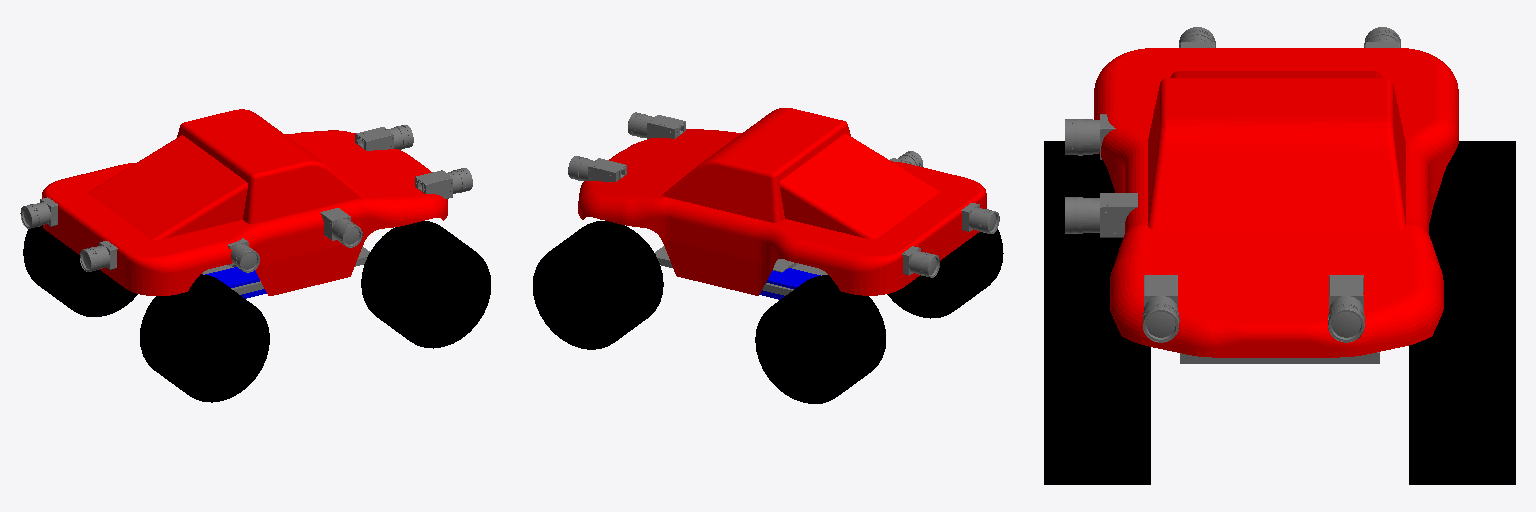
--- Facts derived from the render (not from the file) ---
Views: 3 orthographic renders of the robot side by side, from view 1: azimuth 30°, elevation 25°; view 2: azimuth 150°, elevation 25°; view 3: azimuth 270°, elevation 25°.
Robot: em_3905 — 26 links, 25 joints (2 revolute, 4 continuous, 4 prismatic, 15 fixed); root link base_link; default pose: every joint at zero.
Visible links, largest first — view 1: body, right_front_wheel, right_rear_wheel, left_rear_wheel, basler_basler_r, stereo_basler, stereo_basler2, stereo_basler3, basler3_basler_r, right_battery, basler2_basler_r; view 2: body, left_front_wheel, left_rear_wheel, right_rear_wheel, basler_basler_r, stereo_basler, stereo_basler3, basler3_basler_r, left_battery, chassis; view 3: body, left_front_wheel, right_front_wheel, left_rear_wheel, right_rear_wheel, stereo_basler2, stereo_basler, basler_basler_r, basler2_basler_r, chassis, stereo_basler3, basler3_basler_r.
Boxes of the visible links, box(x1,y1,x2,y2) form: body: box(42, 109, 447, 295); right_front_wheel: box(361, 221, 490, 348); right_rear_wheel: box(140, 274, 269, 402); left_rear_wheel: box(23, 225, 137, 316); basler_basler_r: box(415, 168, 472, 198); stereo_basler: box(355, 125, 413, 150); stereo_basler2: box(320, 208, 362, 247); stereo_basler3: box(80, 241, 117, 271); basler3_basler_r: box(20, 197, 57, 228); right_battery: box(205, 267, 266, 298); basler2_basler_r: box(228, 238, 259, 272); body: box(578, 108, 986, 295); left_front_wheel: box(533, 221, 663, 349); left_rear_wheel: box(755, 275, 885, 403); right_rear_wheel: box(887, 229, 1003, 318); basler_basler_r: box(628, 112, 685, 138); stereo_basler: box(568, 156, 626, 181); stereo_basler3: box(961, 203, 999, 233); basler3_basler_r: box(902, 246, 939, 277); left_battery: box(759, 268, 820, 299); chassis: box(655, 246, 827, 295); body: box(1094, 48, 1458, 357); left_front_wheel: box(1409, 311, 1515, 484); right_front_wheel: box(1044, 311, 1150, 484); left_rear_wheel: box(1429, 141, 1515, 310); right_rear_wheel: box(1044, 141, 1122, 310); stereo_basler2: box(1065, 193, 1137, 237); stereo_basler: box(1328, 275, 1364, 342); basler_basler_r: box(1143, 275, 1179, 342); basler2_basler_r: box(1065, 114, 1115, 159); chassis: box(1180, 352, 1379, 363); stereo_basler3: box(1179, 27, 1215, 47); basler3_basler_r: box(1364, 27, 1400, 47).
Size in the robot's own frame: 0.56 by 0.3939 by 0.2619 metres.
7 mesh visuals loaded from 2 distinct referenced files (2 binary STL).

robot.urdf — em_3905:
<?xml version="1.0" ?>
<!-- =================================================================================== -->
<!-- |    This document was autogenerated by xacro from em_3905.urdf.xacro             | -->
<!-- |    EDITING THIS FILE BY HAND IS NOT RECOMMENDED                                 | -->
<!-- =================================================================================== -->
<!-- em_3905.urdf.xacro

This file defines a model of a Traxxas(R) E-Maxx(R) #3905 RC (Radio Controlled)
truck.

Lengths are measured in meters, angles are measured in radians, and masses are
measured in kilograms. All of these values are approximations.

To work with Gazebo, each link must have an inertial element, even if
the link only serves to connect two joints. To be visible in Gazebo, a link
must have a collision element. Furthermore, the link must have a Gazebo
material.

Traxxas(R), E-Maxx(R), and Titan(R) are registered trademarks of Traxxas
Management, LLC. em_3905.urdf.xacro was independently created by Wunderkammer
Laboratory, and neither em_3905.urdf.xacro nor Wunderkammer Laboratory is
affiliated with, sponsored by, approved by, or endorsed by Traxxas Management,
LLC. Mabuchi Motor(R) is a registered trademark of Mabuchi Motor Co., Ltd.
Corporation Japan. All other trademarks and service marks are the property of
their respective owners.

Copyright (c) 2011-2013 Wunderkammer Laboratory

Licensed under the Apache License, Version 2.0 (the "License");
you may not use this file except in compliance with the License.
You may obtain a copy of the License at

  http://www.apache.org/licenses/LICENSE-2.0

Unless required by applicable law or agreed to in writing, software
distributed under the License is distributed on an "AS IS" BASIS,
WITHOUT WARRANTIES OR CONDITIONS OF ANY KIND, either express or implied.
See the License for the specific language governing permissions and
limitations under the License.
-->
<robot name="em_3905" xmlns:xacro="http://ros.org/wiki/xacro">
  <!-- include files -->
  <!-- Degree-to-radian conversions -->
  <!-- User define Stereo_Cam1 -->
  <!-- stereo_camera_model&param_macro -->
  <!-- Create stereo_basler model -->
  <link name="stereo_basler">
    <visual>
      <origin rpy="1.570795 0 3.14159" xyz="0 -0.015 -0.015"/>
      <geometry>
        <mesh filename="package://ackermann_vehicle_description/urdf/meshes/basler.stl"/>
      </geometry>
      <material name="chassis_mat"/>
    </visual>
  </link>
  <joint name="basler_basler_l_to_basler_r" type="fixed">
    <parent link="stereo_basler"/>
    <child link="basler_basler_r"/>
  </joint>
  <link name="basler_basler_r">
    <visual>
      <origin rpy="1.570795 0 3.14159" xyz="0 -0.17 -0.015"/>
      <geometry>
        <mesh filename="package://ackermann_vehicle_description/urdf/meshes/basler.stl"/>
      </geometry>
      <material name="chassis_mat"/>
    </visual>
  </link>
  <!--optical position parameter-->
  <joint name="basler_optical_joint" type="fixed">
    <origin rpy="0 0 0" xyz="0 0 0"/>
    <parent link="stereo_basler"/>
    <child link="basler_frame_optical"/>
  </joint>
  <link name="basler_frame_optical"/>
  <!--camera sensor parameter-->
  <gazebo reference="basler_frame_optical">
    <sensor name="stereo_camera" type="multicamera">
      <update_rate>30.0</update_rate>
      <camera name="left">
        <pose>0 0 0 0 0 0</pose>
        <!--pose>0 0.155 0 0 0 0</pose-->
        <horizontal_fov>1.57079633</horizontal_fov>
        <image>
          <width>640</width>
          <height>480</height>
          <format>R8G8B8</format>
        </image>
        <clip>
          <near>0.02</near>
          <far>300</far>
        </clip>
        <noise>
          <type>gaussian</type>
          <mean>0.0</mean>
          <stddev>0.007</stddev>
        </noise>
      </camera>
      <camera name="right">
        <pose>0 -0.155 0 0 0 0</pose>
        <!--pose>0 0.548 0 3.14 0 0</pose-->
        <horizontal_fov>1.57079633</horizontal_fov>
        <image>
          <width>640</width>
          <height>480</height>
          <format>R8G8B8</format>
        </image>
        <clip>
          <near>0.02</near>
          <far>300</far>
        </clip>
        <noise>
          <type>gaussian</type>
          <mean>0.0</mean>
          <stddev>0.007</stddev>
        </noise>
      </camera>
      <plugin filename="libgazebo_ros_multicamera.so" name="stereo_camera_controller">
        <alwaysOn>true</alwaysOn>
        <updateRate>0.0</updateRate>
        <!--cameraName>multisense_sl/camera</cameraName-->
        <cameraName>multi/camera</cameraName>
        <imageTopicName>image_raw</imageTopicName>
        <cameraInfoTopicName>camera_info</cameraInfoTopicName>
        <frameName>basler_frame_optical</frameName>
        <!--<rightFrameName>${prefix}_frame_optical</rightFrameName>-->
        <foclLength>320.000101</foclLength>
        <hackBaseline>0.155</hackBaseline>
        <distortionK1>0</distortionK1>
        <distortionK2>0</distortionK2>
        <distortionK3>0</distortionK3>
        <distortionT1>0</distortionT1>
        <distortionT2>0</distortionT2>
      </plugin>
    </sensor>
  </gazebo>
  <!-- stereo_camera1_frame_joint -->
  <joint name="stereo_camera_frame_joint" type="fixed">
    <origin rpy="0 0 0" xyz="0.26 0.055 0.085"/>
    <parent link="base_link"/>
    <child link="stereo_basler"/>
  </joint>
  <!-- Create stereo_basler model -->
  <link name="stereo_basler2">
    <visual>
      <origin rpy="1.570795 0 3.14159" xyz="0 -0.015 -0.015"/>
      <geometry>
        <mesh filename="package://ackermann_vehicle_description/urdf/meshes/basler.stl"/>
      </geometry>
      <material name="chassis_mat"/>
    </visual>
  </link>
  <joint name="basler2_basler_l_to_basler_r" type="fixed">
    <parent link="stereo_basler2"/>
    <child link="basler2_basler_r"/>
  </joint>
  <link name="basler2_basler_r">
    <visual>
      <origin rpy="1.570795 0 3.14159" xyz="0 -0.17 -0.015"/>
      <geometry>
        <mesh filename="package://ackermann_vehicle_description/urdf/meshes/basler.stl"/>
      </geometry>
      <material name="chassis_mat"/>
    </visual>
  </link>
  <!--optical position parameter-->
  <joint name="basler2_optical_joint" type="fixed">
    <origin rpy="0 0 0" xyz="0 0 0"/>
    <parent link="stereo_basler2"/>
    <child link="basler2_frame_optical"/>
  </joint>
  <link name="basler2_frame_optical"/>
  <!--camera sensor parameter-->
  <gazebo reference="basler2_frame_optical">
    <sensor name="stereo_camera" type="multicamera">
      <update_rate>30.0</update_rate>
      <camera name="left">
        <pose>0 0 0 0 0 0</pose>
        <!--pose>0 0.155 0 0 0 0</pose-->
        <horizontal_fov>1.57079633</horizontal_fov>
        <image>
          <width>640</width>
          <height>480</height>
          <format>R8G8B8</format>
        </image>
        <clip>
          <near>0.02</near>
          <far>300</far>
        </clip>
        <noise>
          <type>gaussian</type>
          <mean>0.0</mean>
          <stddev>0.007</stddev>
        </noise>
      </camera>
      <camera name="right">
        <pose>0 -0.155 0 0 0 0</pose>
        <!--pose>0 0.548 0 3.14 0 0</pose-->
        <horizontal_fov>1.57079633</horizontal_fov>
        <image>
          <width>640</width>
          <height>480</height>
          <format>R8G8B8</format>
        </image>
        <clip>
          <near>0.02</near>
          <far>300</far>
        </clip>
        <noise>
          <type>gaussian</type>
          <mean>0.0</mean>
          <stddev>0.007</stddev>
        </noise>
      </camera>
      <plugin filename="libgazebo_ros_multicamera.so" name="stereo_camera_controller">
        <alwaysOn>true</alwaysOn>
        <updateRate>0.0</updateRate>
        <!--cameraName>multisense_sl/camera</cameraName-->
        <cameraName>multi/camera</cameraName>
        <imageTopicName>image_raw</imageTopicName>
        <cameraInfoTopicName>camera_info</cameraInfoTopicName>
        <frameName>basler2_frame_optical</frameName>
        <!--<rightFrameName>${prefix}_frame_optical</rightFrameName>-->
        <foclLength>320.000101</foclLength>
        <hackBaseline>0.155</hackBaseline>
        <distortionK1>0</distortionK1>
        <distortionK2>0</distortionK2>
        <distortionK3>0</distortionK3>
        <distortionT1>0</distortionT1>
        <distortionT2>0</distortionT2>
      </plugin>
    </sensor>
  </gazebo>
  <joint name="stereo_camera2_frame_joint" type="fixed">
    <origin rpy="0 0 4.71238633" xyz="0.04 -0.18 0.085"/>
    <parent link="base_link"/>
    <child link="stereo_basler2"/>
  </joint>
  <!-- Create stereo_basler model -->
  <link name="stereo_basler3">
    <visual>
      <origin rpy="1.570795 0 3.14159" xyz="0 -0.015 -0.015"/>
      <geometry>
        <mesh filename="package://ackermann_vehicle_description/urdf/meshes/basler.stl"/>
      </geometry>
      <material name="chassis_mat"/>
    </visual>
  </link>
  <joint name="basler3_basler_l_to_basler_r" type="fixed">
    <parent link="stereo_basler3"/>
    <child link="basler3_basler_r"/>
  </joint>
  <link name="basler3_basler_r">
    <visual>
      <origin rpy="1.570795 0 3.14159" xyz="0 -0.17 -0.015"/>
      <geometry>
        <mesh filename="package://ackermann_vehicle_description/urdf/meshes/basler.stl"/>
      </geometry>
      <material name="chassis_mat"/>
    </visual>
  </link>
  <!--optical position parameter-->
  <joint name="basler3_optical_joint" type="fixed">
    <origin rpy="0 0 0" xyz="0 0 0"/>
    <parent link="stereo_basler3"/>
    <child link="basler3_frame_optical"/>
  </joint>
  <link name="basler3_frame_optical"/>
  <!--camera sensor parameter-->
  <gazebo reference="basler3_frame_optical">
    <sensor name="stereo_camera" type="multicamera">
      <update_rate>30.0</update_rate>
      <camera name="left">
        <pose>0 0 0 0 0 0</pose>
        <!--pose>0 0.155 0 0 0 0</pose-->
        <horizontal_fov>1.57079633</horizontal_fov>
        <image>
          <width>640</width>
          <height>480</height>
          <format>R8G8B8</format>
        </image>
        <clip>
          <near>0.02</near>
          <far>300</far>
        </clip>
        <noise>
          <type>gaussian</type>
          <mean>0.0</mean>
          <stddev>0.007</stddev>
        </noise>
      </camera>
      <camera name="right">
        <pose>0 -0.155 0 0 0 0</pose>
        <!--pose>0 0.548 0 3.14 0 0</pose-->
        <horizontal_fov>1.57079633</horizontal_fov>
        <image>
          <width>640</width>
          <height>480</height>
          <format>R8G8B8</format>
        </image>
        <clip>
          <near>0.02</near>
          <far>300</far>
        </clip>
        <noise>
          <type>gaussian</type>
          <mean>0.0</mean>
          <stddev>0.007</stddev>
        </noise>
      </camera>
      <plugin filename="libgazebo_ros_multicamera.so" name="stereo_camera_controller">
        <alwaysOn>true</alwaysOn>
        <updateRate>0.0</updateRate>
        <!--cameraName>multisense_sl/camera</cameraName-->
        <cameraName>multi/camera</cameraName>
        <imageTopicName>image_raw</imageTopicName>
        <cameraInfoTopicName>camera_info</cameraInfoTopicName>
        <frameName>basler3_frame_optical</frameName>
        <!--<rightFrameName>${prefix}_frame_optical</rightFrameName>-->
        <foclLength>320.000101</foclLength>
        <hackBaseline>0.155</hackBaseline>
        <distortionK1>0</distortionK1>
        <distortionK2>0</distortionK2>
        <distortionK3>0</distortionK3>
        <distortionT1>0</distortionT1>
        <distortionT2>0</distortionT2>
      </plugin>
    </sensor>
  </gazebo>
  <joint name="stereo_camera3_frame_joint" type="fixed">
    <origin rpy="0 0 3.14159" xyz="-0.3 -0.0685 0.085"/>
    <parent link="base_link"/>
    <child link="stereo_basler3"/>
  </joint>
  <!-- chassis_length is measured along the x axis, chassis_width
       along the y axis, and chassis_height along the z axis. -->
  <!-- battery_dist is the distance between the inner edges of the
       batteries. battery_comp_depth is the battery compartment depth.
       battery_length is measured along the x axis, battery_width
       along the y axis, and battery_height along the z axis. 

  <xacro:property name="battery_comp_angle" value="0.34906585"/>

-->
  <!-- hub_dia and tire_dia are the diameters of the hub and tire,
       respectively. hex_hub_depth is the distance that the hex hub is
       inset from the outer edge of the tire. It is set so that each wheel
       is a "zero offset" wheel. hex_hub_depth = tire_width / 2 -
       axle_length. -->
  <!-- hex_hub_dist is the distance between left and right hex hubs when
       the shock absorbers are fully extended. axle_length is the distance
       from a U joint to the corresponding hex hub. wheel_travel is the
       vertical wheel travel. -->
  <!-- shock_eff_limit is 2 * ((shock_stroke / 2) * shock_spring_constant) N.
       shock_stroke is 0.028575 meters. shock_spring_constant, an approximation
       of a Traxxas Ultra Shock shock absorber spring's constant, is
       437.817 N/m. -->
  <!-- The specifications for a Titan(R) 550 motor could not be found, so the
       stall torque of a Mabuchi Motor(R) RS-550VC-7525 motor was used instead.

       num_spur_gear_teeth = 68
       num_pinion_gear_teeth = 19
       final_gear_ratio = (num_spur_gear_teeth / num_pinion_gear_teeth) *
         5.22 = 18.68
       stall_torque = 0.549 N m
       axle_eff_limit = ((2 * stall_torque) * final_gear_ratio) / 4 =
         5.12766 N m

       max_speed = 40 mph (30+ mph) = 17.8816 m/s
       axle_vel_limit = (2 * pi) * (max_speed / (pi * tire_dia)) =
         244.8696 rad/s -->
  <!-- These constants are used to simulate a Traxxas 2056 servo operated at
       6 V. servo_stall_torque is measured in N m. servo_no_load_speed is
       measured in rad/s. -->
  <!-- ctrl_period is gazebo_ros_control's control period. Unit: hertz. -->
  <material name="battery_mat">
    <color rgba="0 0 1 1"/>
  </material>
  <material name="chassis_mat">
    <color rgba="0.5 0.5 0.5 1"/>
  </material>
  <material name="body_mat">
    <color rgba="1 0 0 1"/>
  </material>
  <material name="tire_mat">
    <color rgba="0 0 0 1"/>
  </material>
  <!-- Null inertial element. This is needed to make the model work with
       Gazebo. -->
  <!-- Inertia of a solid cuboid. Width is measured along the x axis, depth
       along the y axis, and height along the z axis. -->
  <!-- Inertia of a thick-walled cylindrical tube with open ends. Height is
       measured along the z axis, which is the tube's axis. inner_rad and
       outer_rad are the tube's inner and outer radii, respectively. -->
  <!-- Battery -->
  <!-- Shock absorber -->
  <!-- The "wheel" macro defines an axle carrier, axle, and wheel. -->
  <!-- Front wheel -->
  <!-- Rear wheel -->
  <!-- base_link must have geometry so that its axes can be displayed in
       rviz. 
          <mesh><uri>model://meshes/body.stl</uri>
          <scale>1.8 1.8 1.8</scale>

-->
  <link name="base_link">
    <visual>
      <geometry>
        <box size="0.1 0.1 0.01"/>
      </geometry>
      <material name="chassis_mat"/>
    </visual>
  </link>
  <gazebo reference="base_link">
    <material>Gazebo/Grey</material>
  </gazebo>
  <!-- Chassis -->
  <link name="chassis">
    <visual>
      <origin xyz="0 0 -0.005"/>
      <geometry>
        <box size="0.258 0.168 0.01"/>
      </geometry>
      <material name="chassis_mat"/>
    </visual>
    <collision>
      <origin xyz="0 0 -0.005"/>
      <geometry>
        <box size="0.258 0.168 0.01"/>
      </geometry>
    </collision>
    <inertial>
      <origin xyz="0 0 -0.005"/>
      <mass value="2.788"/>
      <inertia ixx="0.00658060933333" ixy="0" ixz="0" iyy="0.0154882693333" iyz="0" izz="0.022022412"/>
    </inertial>
  </link>
  <gazebo reference="chassis">
    <material>Gazebo/Grey</material>
  </gazebo>
  <joint name="base_link_to_chasis" type="fixed">
    <parent link="base_link"/>
    <child link="chassis"/>
  </joint>
  <!-- body -->
  <link name="body">
    <visual>
      <origin rpy="1.57 0 -1.57" xyz="0.25 0.15 0.0"/>
      <geometry>
        <mesh filename="package://ackermann_vehicle_description/urdf/meshes/body.stl"/>
      </geometry>
      <material name="body_mat"/>
    </visual>
  </link>
  <gazebo reference="body">
    <material>Gazebo/Red</material>
  </gazebo>
  <joint name="chasis_link_to_body" type="fixed">
    <parent link="chassis"/>
    <child link="body"/>
  </joint>
  <!-- Batteries -->
  <joint name="chassis_to_left_battery" type="fixed">
    <parent link="chassis"/>
    <child link="left_battery_offset"/>
    <origin rpy="0.0 0 0" xyz="-0.025                    0.0325                    0"/>
  </joint>
  <link name="left_battery_offset">
    <inertial>
      <mass value="0.001"/>
      <inertia ixx="0.001" ixy="0" ixz="0" iyy="0.001" iyz="0" izz="0.001"/>
    </inertial>
  </link>
  <joint name="offset_to_left_battery" type="fixed">
    <parent link="left_battery_offset"/>
    <child link="left_battery"/>
    <origin xyz="0                    0.0235                    -0.008"/>
  </joint>
  <link name="left_battery">
    <visual>
      <geometry>
        <box size="0.16 0.047 0.024"/>
      </geometry>
      <material name="battery_mat"/>
    </visual>
    <collision>
      <geometry>
        <box size="0.16 0.047 0.024"/>
      </geometry>
    </collision>
    <inertial>
      <origin/>
      <mass value="0.5025"/>
      <inertia ixx="0.000116621875" ixy="0" ixz="0" iyy="0.00109612" iyz="0" izz="0.001164501875"/>
    </inertial>
  </link>
  <gazebo reference="left_battery">
    <material>Gazebo/Yellow</material>
  </gazebo>
  <!--   <gazebo reference="${prefix}_battery">
      <material>Gazebo/Blue</material>
    </gazebo>-->
  <joint name="chassis_to_right_battery" type="fixed">
    <parent link="chassis"/>
    <child link="right_battery_offset"/>
    <origin rpy="-0.0 0 0" xyz="-0.025                    -0.0325                    0"/>
  </joint>
  <link name="right_battery_offset">
    <inertial>
      <mass value="0.001"/>
      <inertia ixx="0.001" ixy="0" ixz="0" iyy="0.001" iyz="0" izz="0.001"/>
    </inertial>
  </link>
  <joint name="offset_to_right_battery" type="fixed">
    <parent link="right_battery_offset"/>
    <child link="right_battery"/>
    <origin xyz="0                    -0.0235                    -0.008"/>
  </joint>
  <link name="right_battery">
    <visual>
      <geometry>
        <box size="0.16 0.047 0.024"/>
      </geometry>
      <material name="battery_mat"/>
    </visual>
    <collision>
      <geometry>
        <box size="0.16 0.047 0.024"/>
      </geometry>
    </collision>
    <inertial>
      <origin/>
      <mass value="0.5025"/>
      <inertia ixx="0.000116621875" ixy="0" ixz="0" iyy="0.00109612" iyz="0" izz="0.001164501875"/>
    </inertial>
  </link>
  <gazebo reference="right_battery">
    <material>Gazebo/Yellow</material>
  </gazebo>
  <!--   <gazebo reference="${prefix}_battery">
      <material>Gazebo/Blue</material>
    </gazebo>-->
  <!-- Wheels -->
  <joint name="left_front_shock" type="prismatic">
    <parent link="chassis"/>
    <child link="left_steering_link"/>
    <origin xyz="0.1675                    0.1525                    -0.0235"/>
    <axis xyz="0 0 -1"/>
    <limit effort="12.5106" lower="-0.042" upper="0.042" velocity="1000"/>
  </joint>
  <transmission name="left_front_shock_trans">
    <type>transmission_interface/SimpleTransmission</type>
    <actuator name="left_front_shock_act">
      <mechanicalReduction>1</mechanicalReduction>
    </actuator>
    <joint name="left_front_shock">
      <hardwareInterface>EffortJointInterface</hardwareInterface>
    </joint>
  </transmission>
  <link name="left_steering_link">
    <inertial>
      <mass value="0.001"/>
      <inertia ixx="0.001" ixy="0" ixz="0" iyy="0.001" iyz="0" izz="0.001"/>
    </inertial>
  </link>
  <joint name="left_steering_joint" type="revolute">
    <parent link="left_steering_link"/>
    <child link="left_front_axle_carrier"/>
    <axis xyz="0 0 1"/>
    <limit effort="0.5649" lower="-0.785398163" upper="0.785398163" velocity="4.553"/>
  </joint>
  <transmission name="left_steering_trans">
    <type>transmission_interface/SimpleTransmission</type>
    <actuator name="left_steering_act">
      <mechanicalReduction>1</mechanicalReduction>
    </actuator>
    <joint name="left_steering_joint">
      <hardwareInterface>EffortJointInterface</hardwareInterface>
    </joint>
  </transmission>
  <link name="left_front_axle_carrier">
    <inertial>
      <mass value="0.001"/>
      <inertia ixx="0.001" ixy="0" ixz="0" iyy="0.001" iyz="0" izz="0.001"/>
    </inertial>
  </link>
  <!-- The left and right axles have the same axis so that identical
         rotation values cause the wheels to rotate in the same direction. -->
  <joint name="left_front_axle" type="continuous">
    <parent link="left_front_axle_carrier"/>
    <child link="left_front_wheel"/>
    <origin rpy="1.57079633 0 0"/>
    <axis xyz="0 0 -1"/>
    <limit effort="5.12766" velocity="244.8696"/>
  </joint>
  <transmission name="left_front_axle_trans">
    <type>transmission_interface/SimpleTransmission</type>
    <actuator name="left_front_axle_act">
      <mechanicalReduction>1</mechanicalReduction>
    </actuator>
    <joint name="left_front_axle">
      <hardwareInterface>EffortJointInterface</hardwareInterface>
    </joint>
  </transmission>
  <link name="left_front_wheel">
    <visual>
      <origin xyz="0                      -6.93889390391e-18                      0"/>
      <geometry>
        <cylinder length="0.0889" radius="0.073025"/>
      </geometry>
      <material name="tire_mat"/>
    </visual>
    <collision>
      <origin xyz="0                      -6.93889390391e-18                      0"/>
      <geometry>
        <cylinder length="0.0889" radius="0.073025"/>
      </geometry>
    </collision>
    <inertial>
      <mass value="0.29"/>
      <inertia ixx="0.000746465912979" ixy="0" ixz="0" iyy="0.000746465912979" iyz="0" izz="0.00111094334263"/>
    </inertial>
  </link>
  <gazebo reference="left_front_wheel">
    <material>Gazebo/Black</material>
  </gazebo>
  <joint name="right_front_shock" type="prismatic">
    <parent link="chassis"/>
    <child link="right_steering_link"/>
    <origin xyz="0.1675                    -0.1525                    -0.0235"/>
    <axis xyz="0 0 -1"/>
    <limit effort="12.5106" lower="-0.042" upper="0.042" velocity="1000"/>
  </joint>
  <transmission name="right_front_shock_trans">
    <type>transmission_interface/SimpleTransmission</type>
    <actuator name="right_front_shock_act">
      <mechanicalReduction>1</mechanicalReduction>
    </actuator>
    <joint name="right_front_shock">
      <hardwareInterface>EffortJointInterface</hardwareInterface>
    </joint>
  </transmission>
  <link name="right_steering_link">
    <inertial>
      <mass value="0.001"/>
      <inertia ixx="0.001" ixy="0" ixz="0" iyy="0.001" iyz="0" izz="0.001"/>
    </inertial>
  </link>
  <joint name="right_steering_joint" type="revolute">
    <parent link="right_steering_link"/>
    <child link="right_front_axle_carrier"/>
    <axis xyz="0 0 1"/>
    <limit effort="0.5649" lower="-0.785398163" upper="0.785398163" velocity="4.553"/>
  </joint>
  <transmission name="right_steering_trans">
    <type>transmission_interface/SimpleTransmission</type>
    <actuator name="right_steering_act">
      <mechanicalReduction>1</mechanicalReduction>
    </actuator>
    <joint name="right_steering_joint">
      <hardwareInterface>EffortJointInterface</hardwareInterface>
    </joint>
  </transmission>
  <link name="right_front_axle_carrier">
    <inertial>
      <mass value="0.001"/>
      <inertia ixx="0.001" ixy="0" ixz="0" iyy="0.001" iyz="0" izz="0.001"/>
    </inertial>
  </link>
  <!-- The left and right axles have the same axis so that identical
         rotation values cause the wheels to rotate in the same direction. -->
  <joint name="right_front_axle" type="continuous">
    <parent link="right_front_axle_carrier"/>
    <child link="right_front_wheel"/>
    <origin rpy="1.57079633 0 0"/>
    <axis xyz="0 0 -1"/>
    <limit effort="5.12766" velocity="244.8696"/>
  </joint>
  <transmission name="right_front_axle_trans">
    <type>transmission_interface/SimpleTransmission</type>
    <actuator name="right_front_axle_act">
      <mechanicalReduction>1</mechanicalReduction>
    </actuator>
    <joint name="right_front_axle">
      <hardwareInterface>EffortJointInterface</hardwareInterface>
    </joint>
  </transmission>
  <link name="right_front_wheel">
    <visual>
      <origin xyz="0                      6.93889390391e-18                      0"/>
      <geometry>
        <cylinder length="0.0889" radius="0.073025"/>
      </geometry>
      <material name="tire_mat"/>
    </visual>
    <collision>
      <origin xyz="0                      6.93889390391e-18                      0"/>
      <geometry>
        <cylinder length="0.0889" radius="0.073025"/>
      </geometry>
    </collision>
    <inertial>
      <mass value="0.29"/>
      <inertia ixx="0.000746465912979" ixy="0" ixz="0" iyy="0.000746465912979" iyz="0" izz="0.00111094334263"/>
    </inertial>
  </link>
  <gazebo reference="right_front_wheel">
    <material>Gazebo/Black</material>
  </gazebo>
  <joint name="left_rear_shock" type="prismatic">
    <parent link="chassis"/>
    <child link="left_rear_axle_carrier"/>
    <origin xyz="-0.1675                    0.1525                    -0.0235"/>
    <axis xyz="0 0 -1"/>
    <limit effort="12.5106" lower="-0.042" upper="0.042" velocity="1000"/>
  </joint>
  <transmission name="left_rear_shock_trans">
    <type>transmission_interface/SimpleTransmission</type>
    <actuator name="left_rear_shock_act">
      <mechanicalReduction>1</mechanicalReduction>
    </actuator>
    <joint name="left_rear_shock">
      <hardwareInterface>EffortJointInterface</hardwareInterface>
    </joint>
  </transmission>
  <link name="left_rear_axle_carrier">
    <inertial>
      <mass value="0.001"/>
      <inertia ixx="0.001" ixy="0" ixz="0" iyy="0.001" iyz="0" izz="0.001"/>
    </inertial>
  </link>
  <!-- The left and right axles have the same axis so that identical
         rotation values cause the wheels to rotate in the same direction. -->
  <joint name="left_rear_axle" type="continuous">
    <parent link="left_rear_axle_carrier"/>
    <child link="left_rear_wheel"/>
    <origin rpy="1.57079633 0 0"/>
    <axis xyz="0 0 -1"/>
    <limit effort="5.12766" velocity="244.8696"/>
  </joint>
  <transmission name="left_rear_axle_trans">
    <type>transmission_interface/SimpleTransmission</type>
    <actuator name="left_rear_axle_act">
      <mechanicalReduction>1</mechanicalReduction>
    </actuator>
    <joint name="left_rear_axle">
      <hardwareInterface>EffortJointInterface</hardwareInterface>
    </joint>
  </transmission>
  <link name="left_rear_wheel">
    <visual>
      <origin xyz="0                      -6.93889390391e-18                      0"/>
      <geometry>
        <cylinder length="0.0889" radius="0.073025"/>
      </geometry>
      <material name="tire_mat"/>
    </visual>
    <collision>
      <origin xyz="0                      -6.93889390391e-18                      0"/>
      <geometry>
        <cylinder length="0.0889" radius="0.073025"/>
      </geometry>
    </collision>
    <inertial>
      <mass value="0.29"/>
      <inertia ixx="0.000746465912979" ixy="0" ixz="0" iyy="0.000746465912979" iyz="0" izz="0.00111094334263"/>
    </inertial>
  </link>
  <gazebo reference="left_rear_wheel">
    <material>Gazebo/Black</material>
  </gazebo>
  <joint name="right_rear_shock" type="prismatic">
    <parent link="chassis"/>
    <child link="right_rear_axle_carrier"/>
    <origin xyz="-0.1675                    -0.1525                    -0.0235"/>
    <axis xyz="0 0 -1"/>
    <limit effort="12.5106" lower="-0.042" upper="0.042" velocity="1000"/>
  </joint>
  <transmission name="right_rear_shock_trans">
    <type>transmission_interface/SimpleTransmission</type>
    <actuator name="right_rear_shock_act">
      <mechanicalReduction>1</mechanicalReduction>
    </actuator>
    <joint name="right_rear_shock">
      <hardwareInterface>EffortJointInterface</hardwareInterface>
    </joint>
  </transmission>
  <link name="right_rear_axle_carrier">
    <inertial>
      <mass value="0.001"/>
      <inertia ixx="0.001" ixy="0" ixz="0" iyy="0.001" iyz="0" izz="0.001"/>
    </inertial>
  </link>
  <!-- The left and right axles have the same axis so that identical
         rotation values cause the wheels to rotate in the same direction. -->
  <joint name="right_rear_axle" type="continuous">
    <parent link="right_rear_axle_carrier"/>
    <child link="right_rear_wheel"/>
    <origin rpy="1.57079633 0 0"/>
    <axis xyz="0 0 -1"/>
    <limit effort="5.12766" velocity="244.8696"/>
  </joint>
  <transmission name="right_rear_axle_trans">
    <type>transmission_interface/SimpleTransmission</type>
    <actuator name="right_rear_axle_act">
      <mechanicalReduction>1</mechanicalReduction>
    </actuator>
    <joint name="right_rear_axle">
      <hardwareInterface>EffortJointInterface</hardwareInterface>
    </joint>
  </transmission>
  <link name="right_rear_wheel">
    <visual>
      <origin xyz="0                      6.93889390391e-18                      0"/>
      <geometry>
        <cylinder length="0.0889" radius="0.073025"/>
      </geometry>
      <material name="tire_mat"/>
    </visual>
    <collision>
      <origin xyz="0                      6.93889390391e-18                      0"/>
      <geometry>
        <cylinder length="0.0889" radius="0.073025"/>
      </geometry>
    </collision>
    <inertial>
      <mass value="0.29"/>
      <inertia ixx="0.000746465912979" ixy="0" ixz="0" iyy="0.000746465912979" iyz="0" izz="0.00111094334263"/>
    </inertial>
  </link>
  <gazebo reference="right_rear_wheel">
    <material>Gazebo/Black</material>
  </gazebo>
  <gazebo>
    <plugin filename="libgazebo_ros_control.so" name="gazebo_ros_control">
      <!-- As of 10/7/13, setting controlPeriod to a value greater than
           Gazebo's simulation period prevents the shock absorbers from
           working.
      <controlPeriod>${ctrl_period}</controlPeriod>
      -->
    </plugin>
  </gazebo>
</robot>
